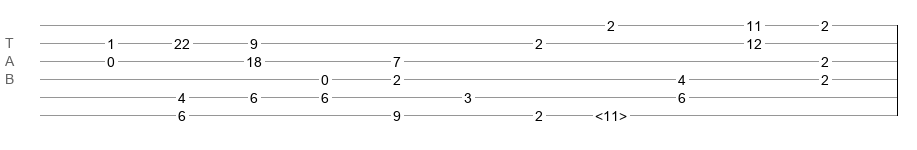0: (107, 54, 115, 64), (321, 72, 329, 82)
1: (107, 36, 115, 46)
11: (746, 18, 762, 28)
12: (746, 36, 762, 46)
18: (246, 54, 262, 64)
2: (393, 72, 401, 82), (535, 36, 543, 46), (535, 108, 543, 118), (607, 18, 615, 28), (821, 18, 829, 28), (821, 72, 829, 82), (821, 54, 829, 64)
22: (174, 36, 190, 46)
3: (464, 90, 472, 100)
4: (178, 90, 186, 100), (678, 72, 686, 82)
6: (178, 108, 186, 118), (250, 90, 258, 100), (321, 90, 329, 100), (678, 90, 686, 100)
7: (393, 54, 401, 64)
9: (250, 36, 258, 46), (393, 108, 401, 118)
harmonic: (595, 108, 627, 118)
